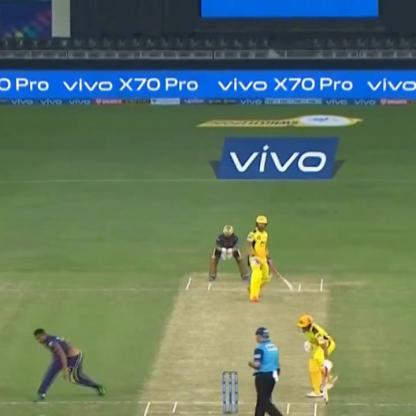pitch: (136, 266, 331, 416)
